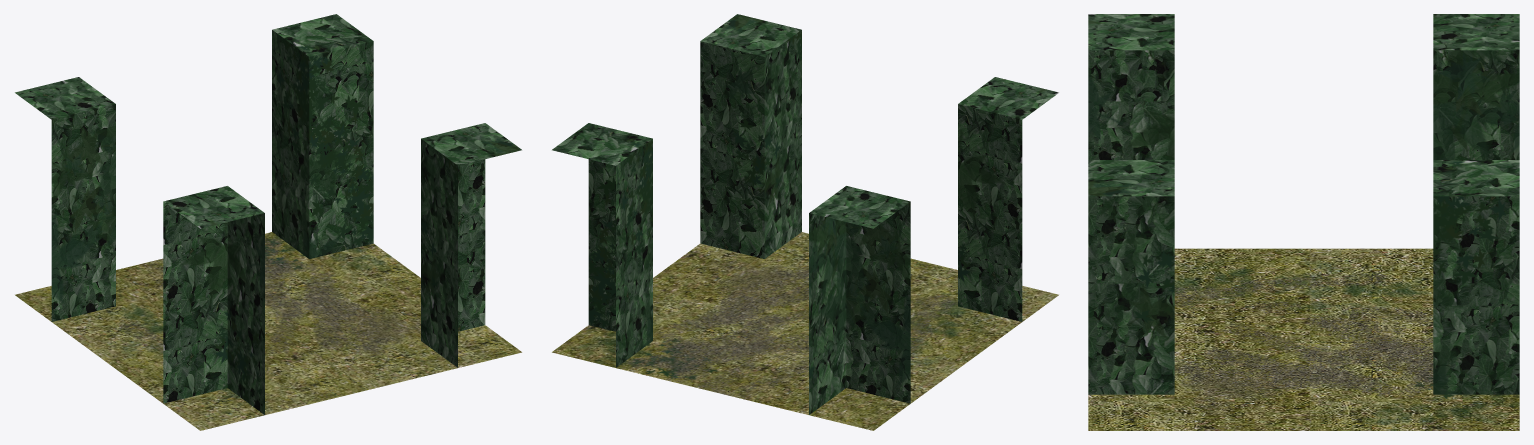
The model's file is 4-5_Four_Edges.fbx.
3 views of the same model, side by side, from view 1: azimuth 30°, elevation 25°; view 2: azimuth 150°, elevation 25°; view 3: azimuth 270°, elevation 25° (orthographic). The views are drawn at different scales.
Visible parts, largest first — view 1: front1; view 2: front1; view 3: front1.
Part boxes in pixels (bbox=[...]): front1: bbox=[15, 14, 521, 430]; front1: bbox=[552, 14, 1058, 430]; front1: bbox=[1088, 14, 1519, 430].
Bounding box in the file's own units: 100 × 60 × 100.
Materials: 1 (1 with a texture image).
